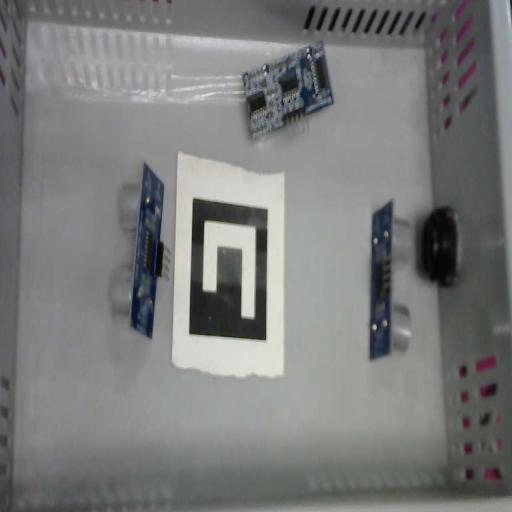QR: (171, 150, 285, 378)
ultrasonic_hc-sr04: (108, 160, 170, 342), (241, 39, 334, 147), (369, 199, 414, 362)
